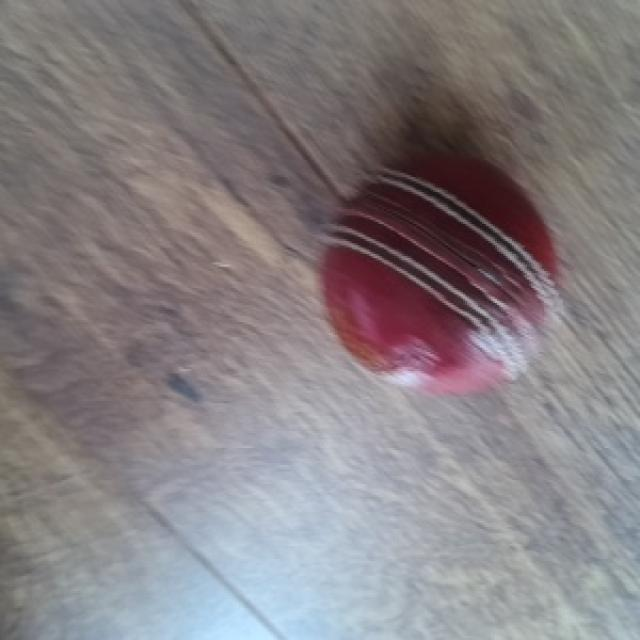ball: (325, 156, 553, 400)
